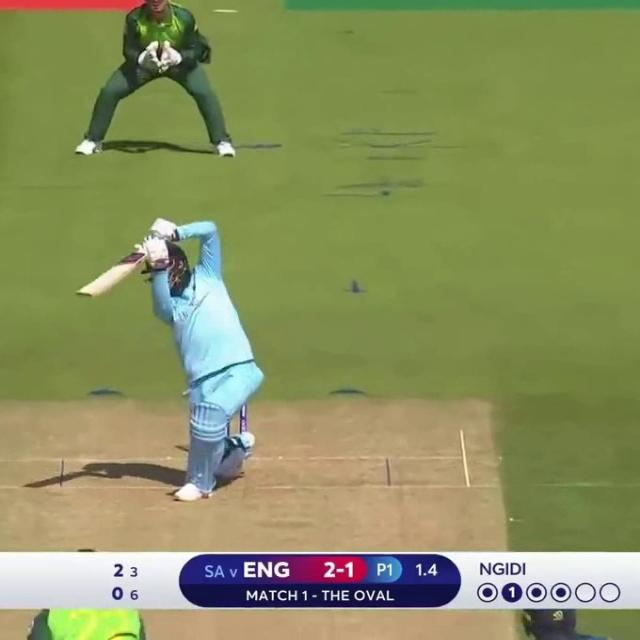bat: (76, 253, 146, 297)
toe: (71, 290, 95, 298)
